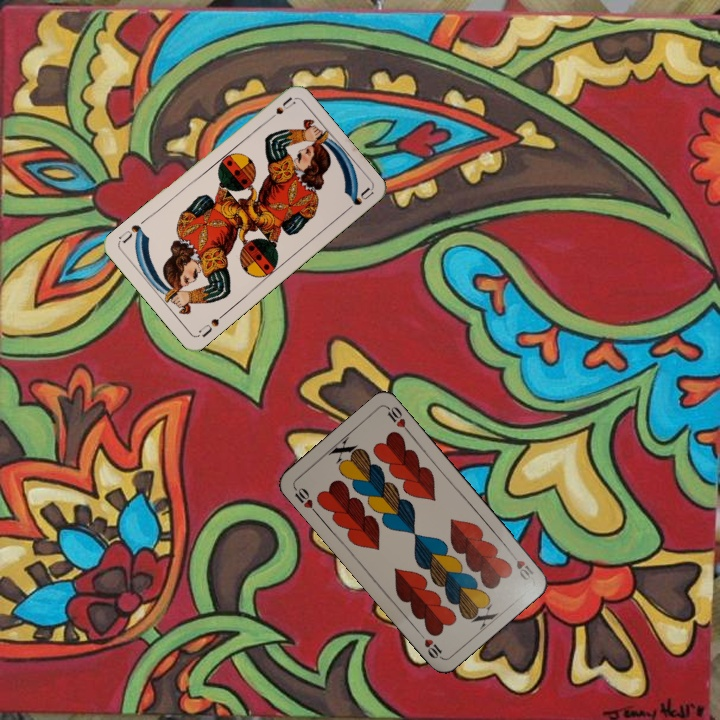H10: (505, 547, 536, 583), (290, 483, 320, 517)
SU: (261, 93, 298, 125), (194, 309, 228, 340)
